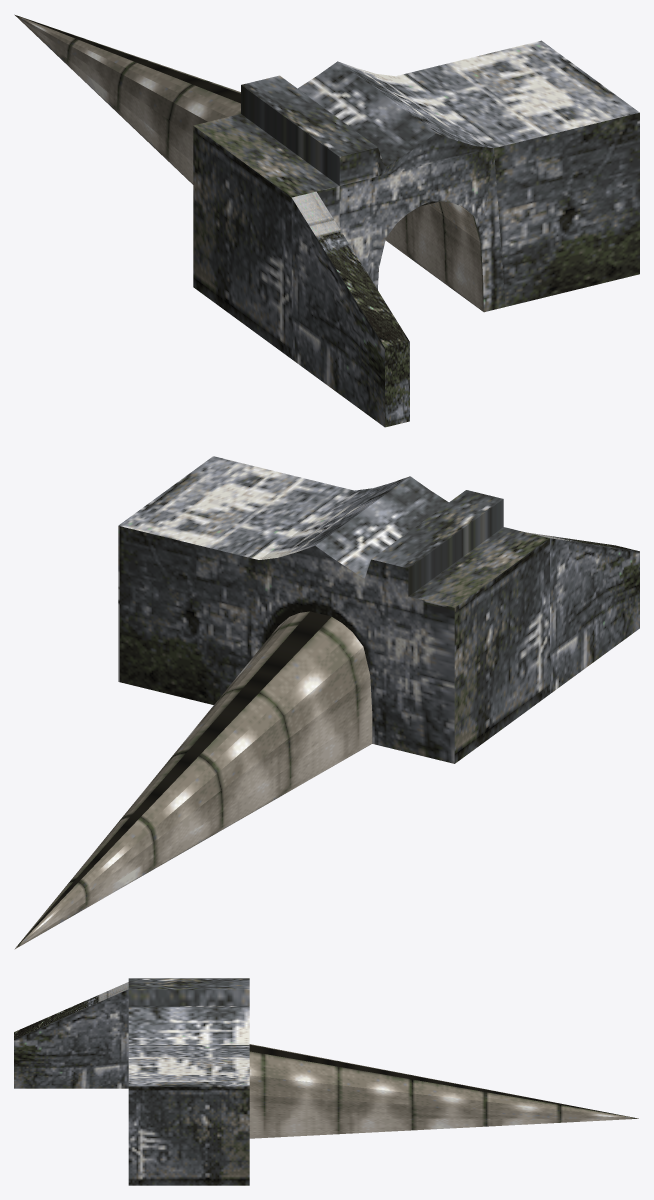
File: TUNNELnew.fbx
3 views of the same model, one above another, from view 1: azimuth 30°, elevation 25°; view 2: azimuth 150°, elevation 25°; view 3: azimuth 270°, elevation 25° (orthographic). The views are drawn at different scales.
Visible parts, largest first — view 1: Cube.580; view 2: Cube.580; view 3: Cube.580.
Boxes of the visible parts, x1=… form: Cube.580: x1=14, y1=14, x2=639, y2=427; Cube.580: x1=14, y1=456, x2=639, y2=949; Cube.580: x1=14, y1=978, x2=638, y2=1185.
Size of the model in its own units: 1041 by 544 by 2636.
